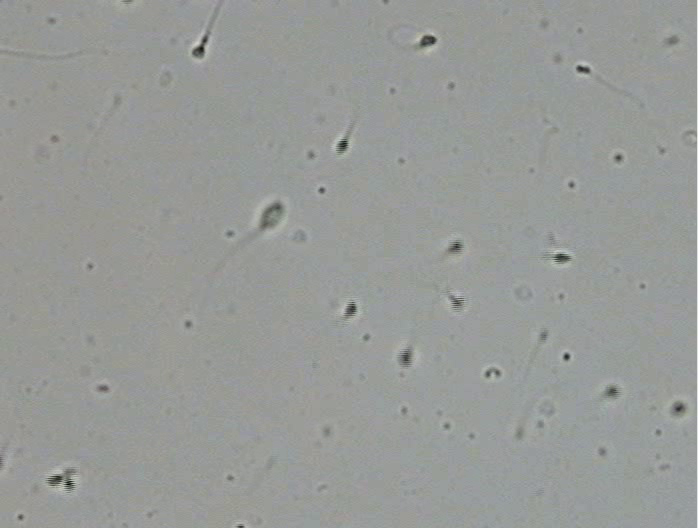S: (259, 202, 284, 229), (449, 295, 465, 312), (398, 348, 411, 368), (552, 252, 573, 264), (335, 138, 349, 155), (45, 474, 63, 487), (344, 300, 357, 318), (604, 385, 620, 399), (448, 240, 463, 254), (671, 402, 686, 416), (420, 35, 437, 47), (63, 478, 76, 493), (192, 45, 205, 58), (575, 65, 591, 74), (1, 455, 3, 468)
